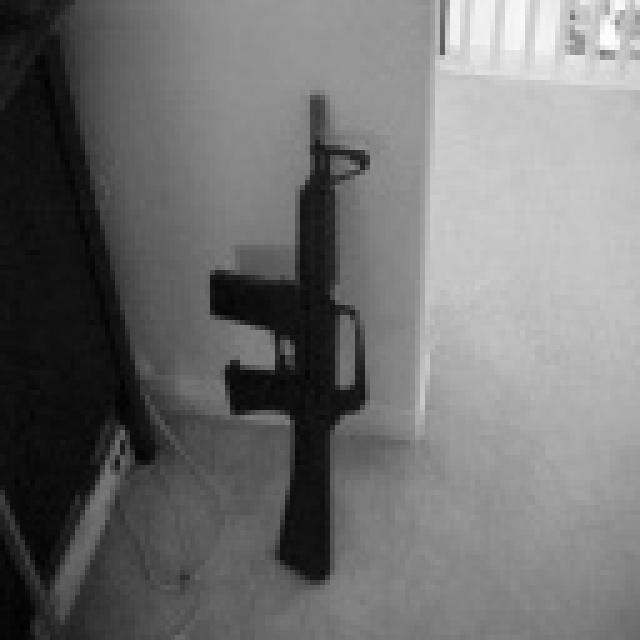Rifle: (195, 69, 405, 593)
